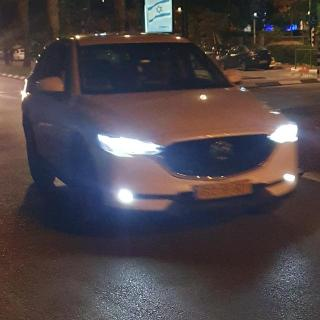LicensePlate: (198, 179, 251, 199)
